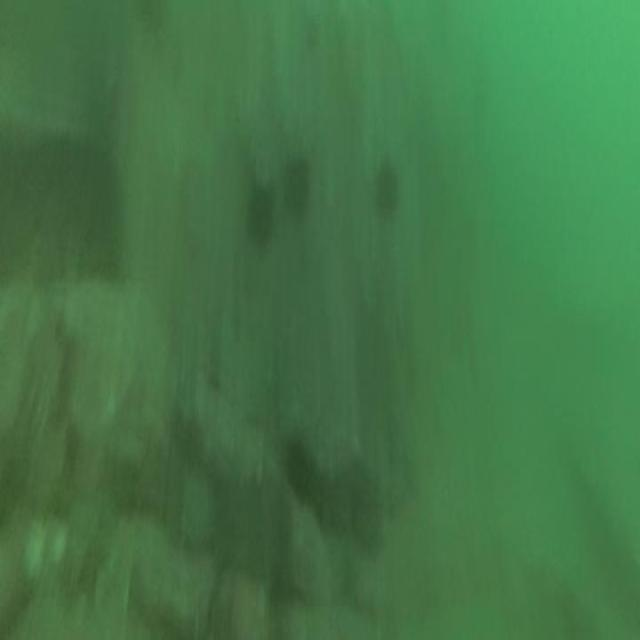echinus: (241, 179, 277, 256), (279, 147, 314, 226), (371, 147, 402, 229), (281, 433, 315, 503)
